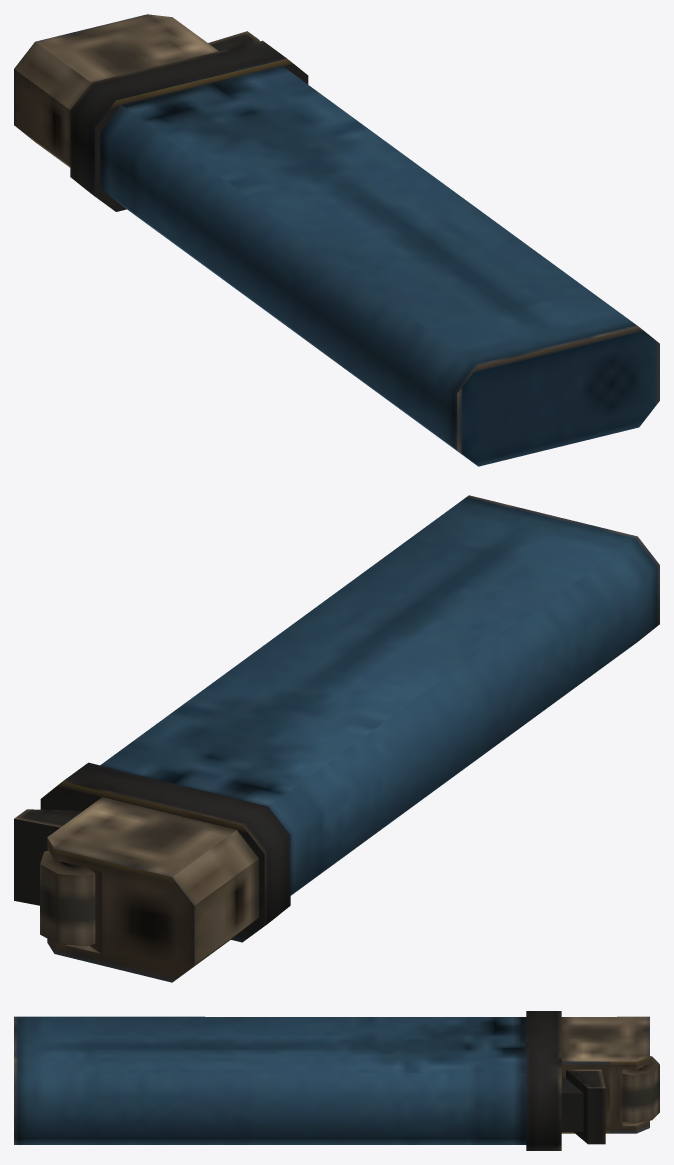
File: lighter_mp_1_1.obj
3 views of the same model, one above another, from view 1: azimuth 30°, elevation 25°; view 2: azimuth 150°, elevation 25°; view 3: azimuth 270°, elevation 25° (orthographic). The views are drawn at different scales.
Visible parts, largest first — view 1: lighter_mp_1_1; view 2: lighter_mp_1_1; view 3: lighter_mp_1_1.
Boxes of the visible parts, x1,y1,x2,y2 form: lighter_mp_1_1: [14, 14, 659, 466]; lighter_mp_1_1: [14, 495, 659, 982]; lighter_mp_1_1: [14, 1011, 659, 1150].
Bounding box in the file's own units: 1.28 × 0.64 × 4.68.
1 material, 1 textured.
